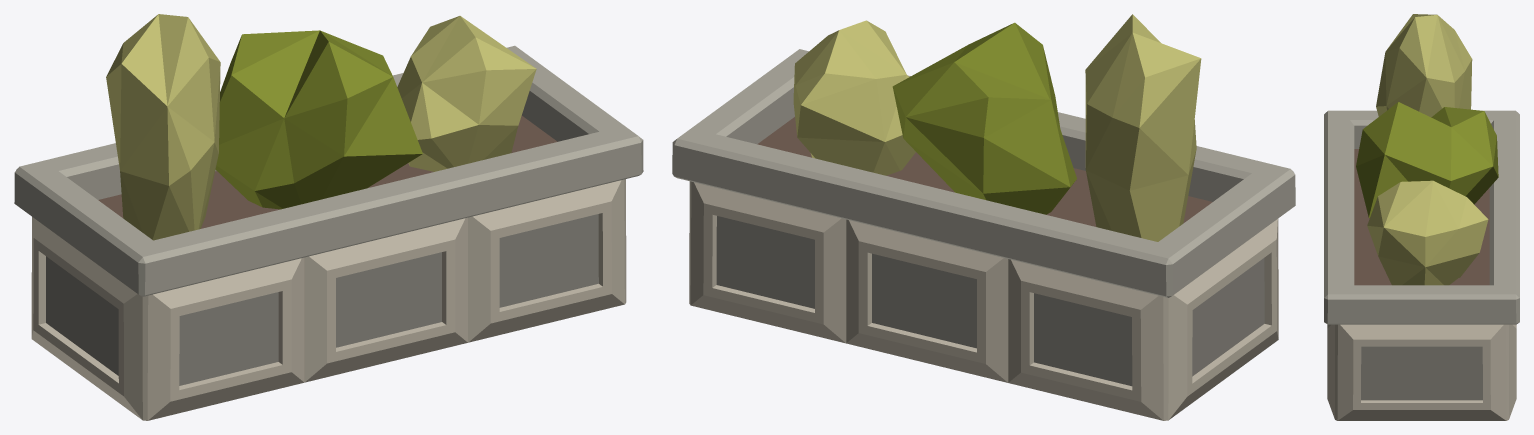
The model's file is planta_2.fbx.
The picture shows the model from 3 angles, left to right: view 1: azimuth 30°, elevation 25°; view 2: azimuth 150°, elevation 25°; view 3: azimuth 270°, elevation 25°; orthographic projection. The views are drawn at different scales.
Visible parts, largest first — view 1: caja_estructura, planta_naranja, planta_roja, planta_rosita; view 2: caja_estructura, planta_naranja, planta_roja, planta_rosita; view 3: caja_estructura, planta_naranja, planta_rosita, planta_roja.
Boxes of the visible parts, box(x1,y1,x2,y2) form: caja_estructura: box(14, 45, 643, 420); planta_naranja: box(215, 30, 422, 209); planta_roja: box(106, 14, 220, 240); planta_rosita: box(397, 16, 536, 171); caja_estructura: box(672, 49, 1295, 420); planta_naranja: box(892, 22, 1076, 214); planta_roja: box(1085, 14, 1201, 241); planta_rosita: box(793, 20, 915, 175); caja_estructura: box(1324, 110, 1519, 420); planta_naranja: box(1356, 102, 1498, 218); planta_rosita: box(1367, 180, 1488, 285); planta_roja: box(1376, 14, 1472, 117).
Size of the model in its own units: 147 by 95.54 by 65.08.
